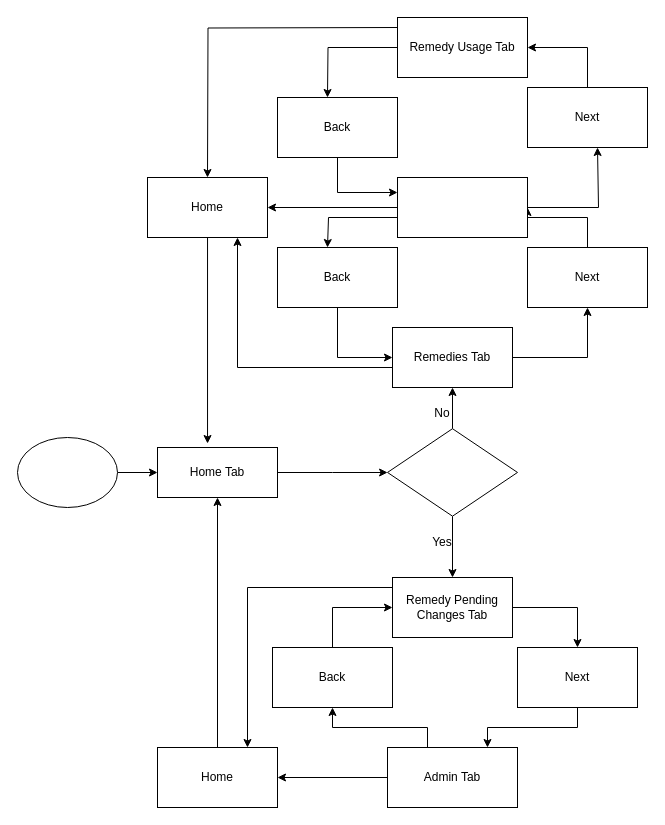
Some shapes in this 665 by 825 pixel diagram are drawn without their labels. Here are the shapes that lost their labels. From the top down, the box of each, then its label:
(396, 176, 528, 238): Add Remedies Tab
(16, 436, 118, 508): Start
(386, 428, 518, 516): Are you a Administrator?
